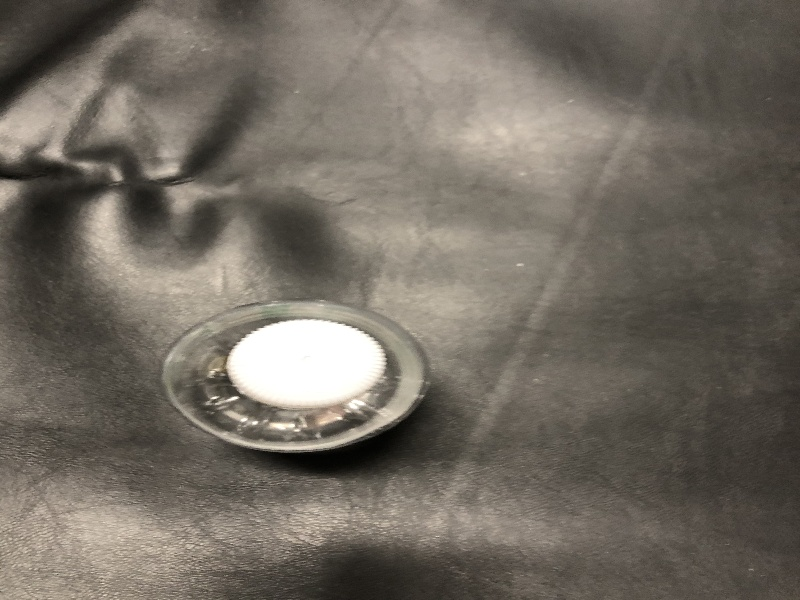plastic: (146, 286, 445, 462)
